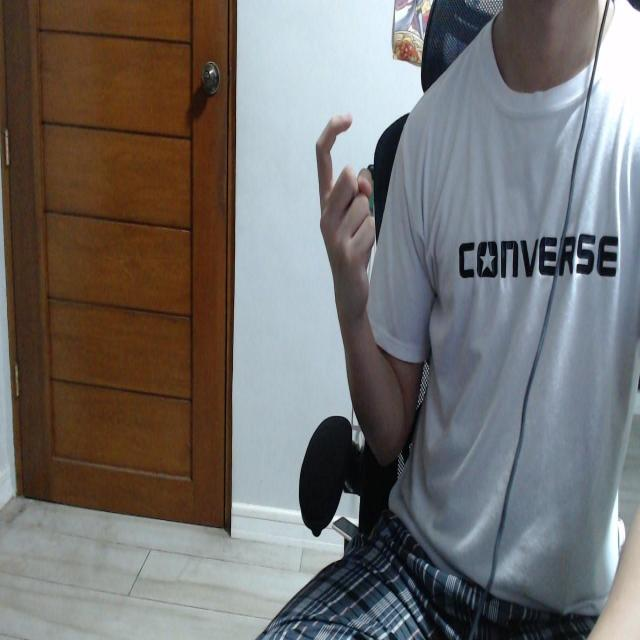X: (314, 111, 376, 317)
